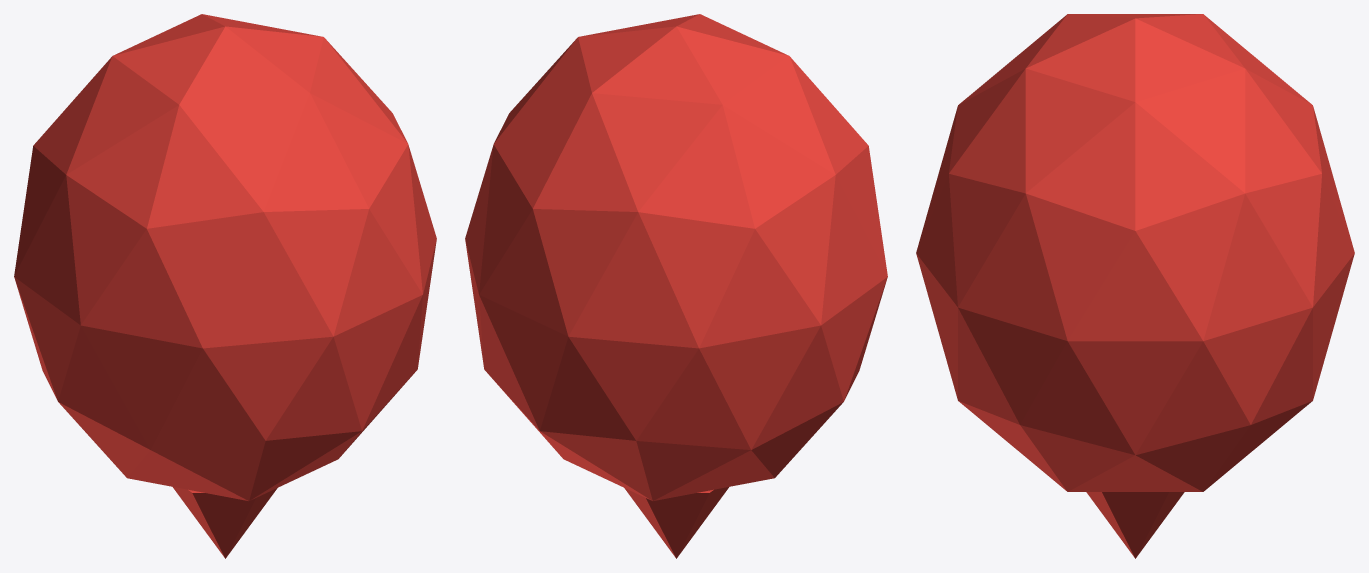
Rendered from balloon_red.glb.
3 renders of one model, left to right at view 1: azimuth 30°, elevation 25°; view 2: azimuth 150°, elevation 25°; view 3: azimuth 270°, elevation 25°, orthographic.
Parts seen in each view (by area): view 1: balloon_red; view 2: balloon_red; view 3: balloon_red.
Boxes of the visible parts, left/top/right/bottom form: balloon_red: left=14, top=14, right=436, bottom=558; balloon_red: left=465, top=14, right=887, bottom=558; balloon_red: left=916, top=14, right=1354, bottom=558.
Size of the model in its own units: 0.2473 by 0.3534 by 0.26.
